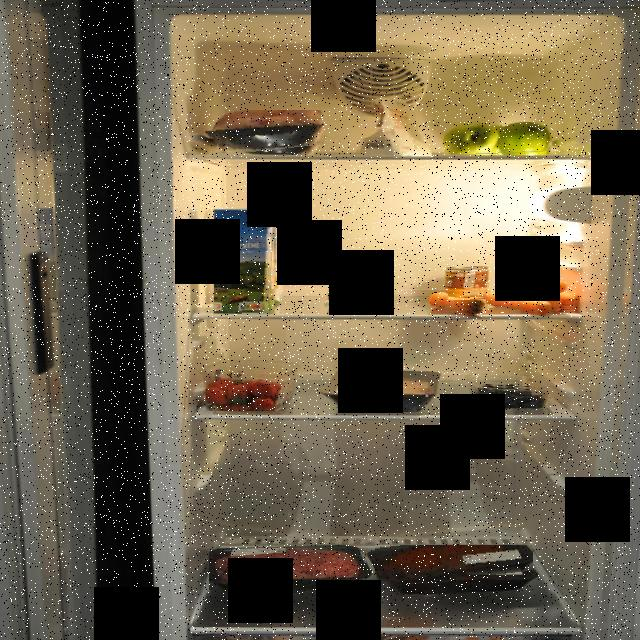apple: (444, 122, 554, 156)
beef: (376, 546, 534, 588)
blueberries: (472, 384, 548, 408)
carrot: (488, 280, 580, 313), (426, 292, 486, 314)
chicken: (209, 110, 324, 156)
chicken_breast: (326, 373, 434, 407)
corn: (448, 266, 490, 300)
eggs: (326, 276, 396, 308)
flour: (355, 96, 432, 158)
ground_beef: (210, 542, 368, 590)
milk: (214, 209, 275, 315)
strawberries: (206, 367, 292, 411)
